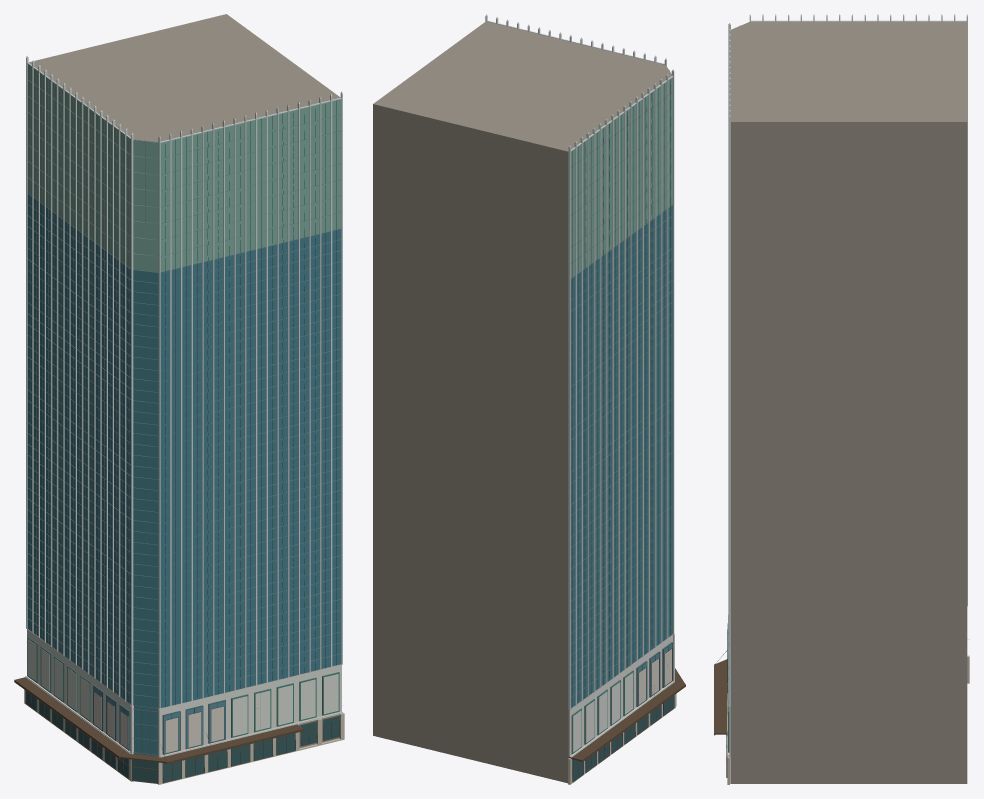
The model's file is light.glb.
The picture shows the model from 3 angles, left to right: view 1: azimuth 30°, elevation 25°; view 2: azimuth 150°, elevation 25°; view 3: azimuth 270°, elevation 25°; orthographic projection. The views are drawn at different scales.
Visible parts, largest first — view 1: G_upper_preserved_Changle_Observed_blue_curtain_glass, Changle_Observed_silver_vertical_ribs, Changle_Observed_green_upper_panels, Changle_Observed_dark_thin_frames, Changle_HOLD_unknown_rear_roof_base, H_retained_outside_six_bays_G_upper_preserved_Changle_Observ, G_corner_closed_glass_no_door_mechanism, G_visible_hanger_approx_F0, H_observed_opaque_stone_insert, H_retained_outside_six_bays_G_upper_preserved_F_green_perime, G_visible_low_columns, H_observed_blue_cap_and_side_glass (+2 smaller); view 2: Changle_HOLD_unknown_rear_roof_base, G_upper_preserved_Changle_Observed_blue_curtain_glass, Changle_Observed_silver_vertical_ribs, Changle_Observed_dark_thin_frames, Changle_Observed_green_upper_panels, H_retained_outside_six_bays_G_upper_preserved_Changle_Observ, G_visible_hanger_approx_F0, G_corner_closed_glass_no_door_mechanism, H_observed_opaque_stone_insert, H_retained_outside_six_bays_G_upper_preserved_F_green_perime; view 3: Changle_HOLD_unknown_rear_roof_base, Changle_Observed_silver_vertical_ribs, G_visible_hanger_approx_F0.
Part boxes in pixels (x1=…): G_upper_preserved_Changle_Observed_blue_curtain_glass: x1=27, y1=194, x2=341, y2=756; Changle_Observed_silver_vertical_ribs: x1=26, y1=56, x2=342, y2=708; Changle_Observed_green_upper_panels: x1=27, y1=64, x2=341, y2=272; Changle_Observed_dark_thin_frames: x1=27, y1=66, x2=341, y2=754; Changle_HOLD_unknown_rear_roof_base: x1=29, y1=14, x2=340, y2=748; H_retained_outside_six_bays_G_upper_preserved_Changle_Observ: x1=26, y1=629, x2=342, y2=757; G_corner_closed_glass_no_door_mechanism: x1=26, y1=691, x2=339, y2=783; G_visible_hanger_approx_F0: x1=14, y1=677, x2=339, y2=783; H_observed_opaque_stone_insert: x1=94, y1=692, x2=223, y2=752; H_retained_outside_six_bays_G_upper_preserved_F_green_perime: x1=27, y1=637, x2=339, y2=737; G_visible_low_columns: x1=24, y1=690, x2=344, y2=784; H_observed_blue_cap_and_side_glass: x1=93, y1=685, x2=225, y2=753; Changle_HOLD_unknown_rear_roof_base: x1=373, y1=21, x2=671, y2=783; G_upper_preserved_Changle_Observed_blue_curtain_glass: x1=571, y1=205, x2=672, y2=708; Changle_Observed_silver_vertical_ribs: x1=485, y1=14, x2=674, y2=709; Changle_Observed_dark_thin_frames: x1=571, y1=70, x2=672, y2=753; Changle_Observed_green_upper_panels: x1=571, y1=65, x2=672, y2=278; H_retained_outside_six_bays_G_upper_preserved_Changle_Observ: x1=568, y1=633, x2=674, y2=757; G_visible_hanger_approx_F0: x1=568, y1=668, x2=685, y2=782; G_corner_closed_glass_no_door_mechanism: x1=572, y1=696, x2=674, y2=781; H_observed_opaque_stone_insert: x1=638, y1=649, x2=671, y2=704; H_retained_outside_six_bays_G_upper_preserved_F_green_perime: x1=572, y1=670, x2=633, y2=754; Changle_HOLD_unknown_rear_roof_base: x1=730, y1=21, x2=967, y2=783; Changle_Observed_silver_vertical_ribs: x1=728, y1=14, x2=967, y2=706; G_visible_hanger_approx_F0: x1=714, y1=651, x2=727, y2=777.
Size of the model in its own units: 38.86 by 112 by 38.86.
